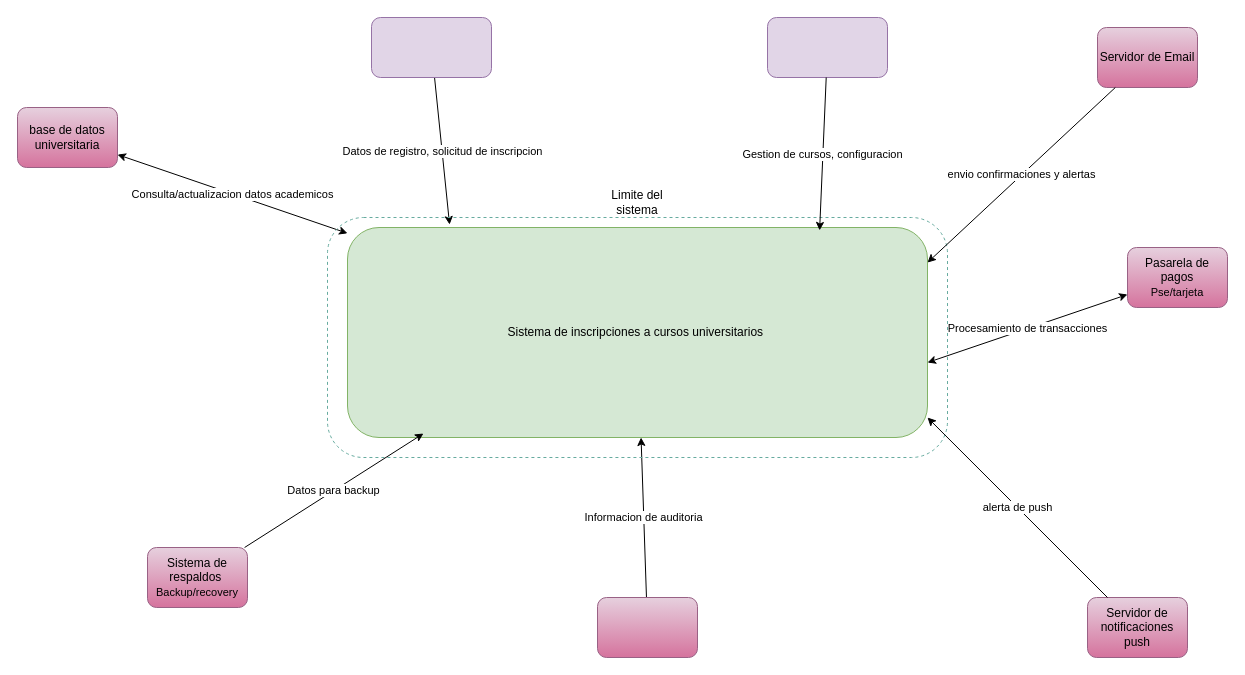
The diagram is 1245 pixels wide and 675 high, and some of its shapes have lost their labels. The centre of each missing label's shape, as x and y in pixels:
Administrador: point 827,47
Estudiante: point 431,47
Sistema de Logs: point 647,627
